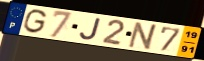2: (102, 19, 126, 47)
7: (50, 10, 74, 39), (159, 26, 183, 52)
G: (22, 8, 49, 35)
J: (79, 17, 103, 41)
N: (126, 21, 160, 51)
